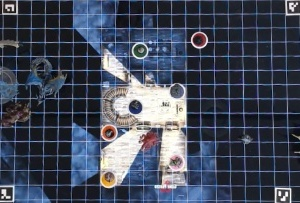blue: (127, 97, 146, 114)
green: (129, 40, 149, 57)
orange: (100, 121, 121, 141)
pink: (167, 152, 186, 174)
red: (190, 30, 210, 49)
violet: (169, 81, 187, 100)
yellow: (103, 170, 118, 189)
